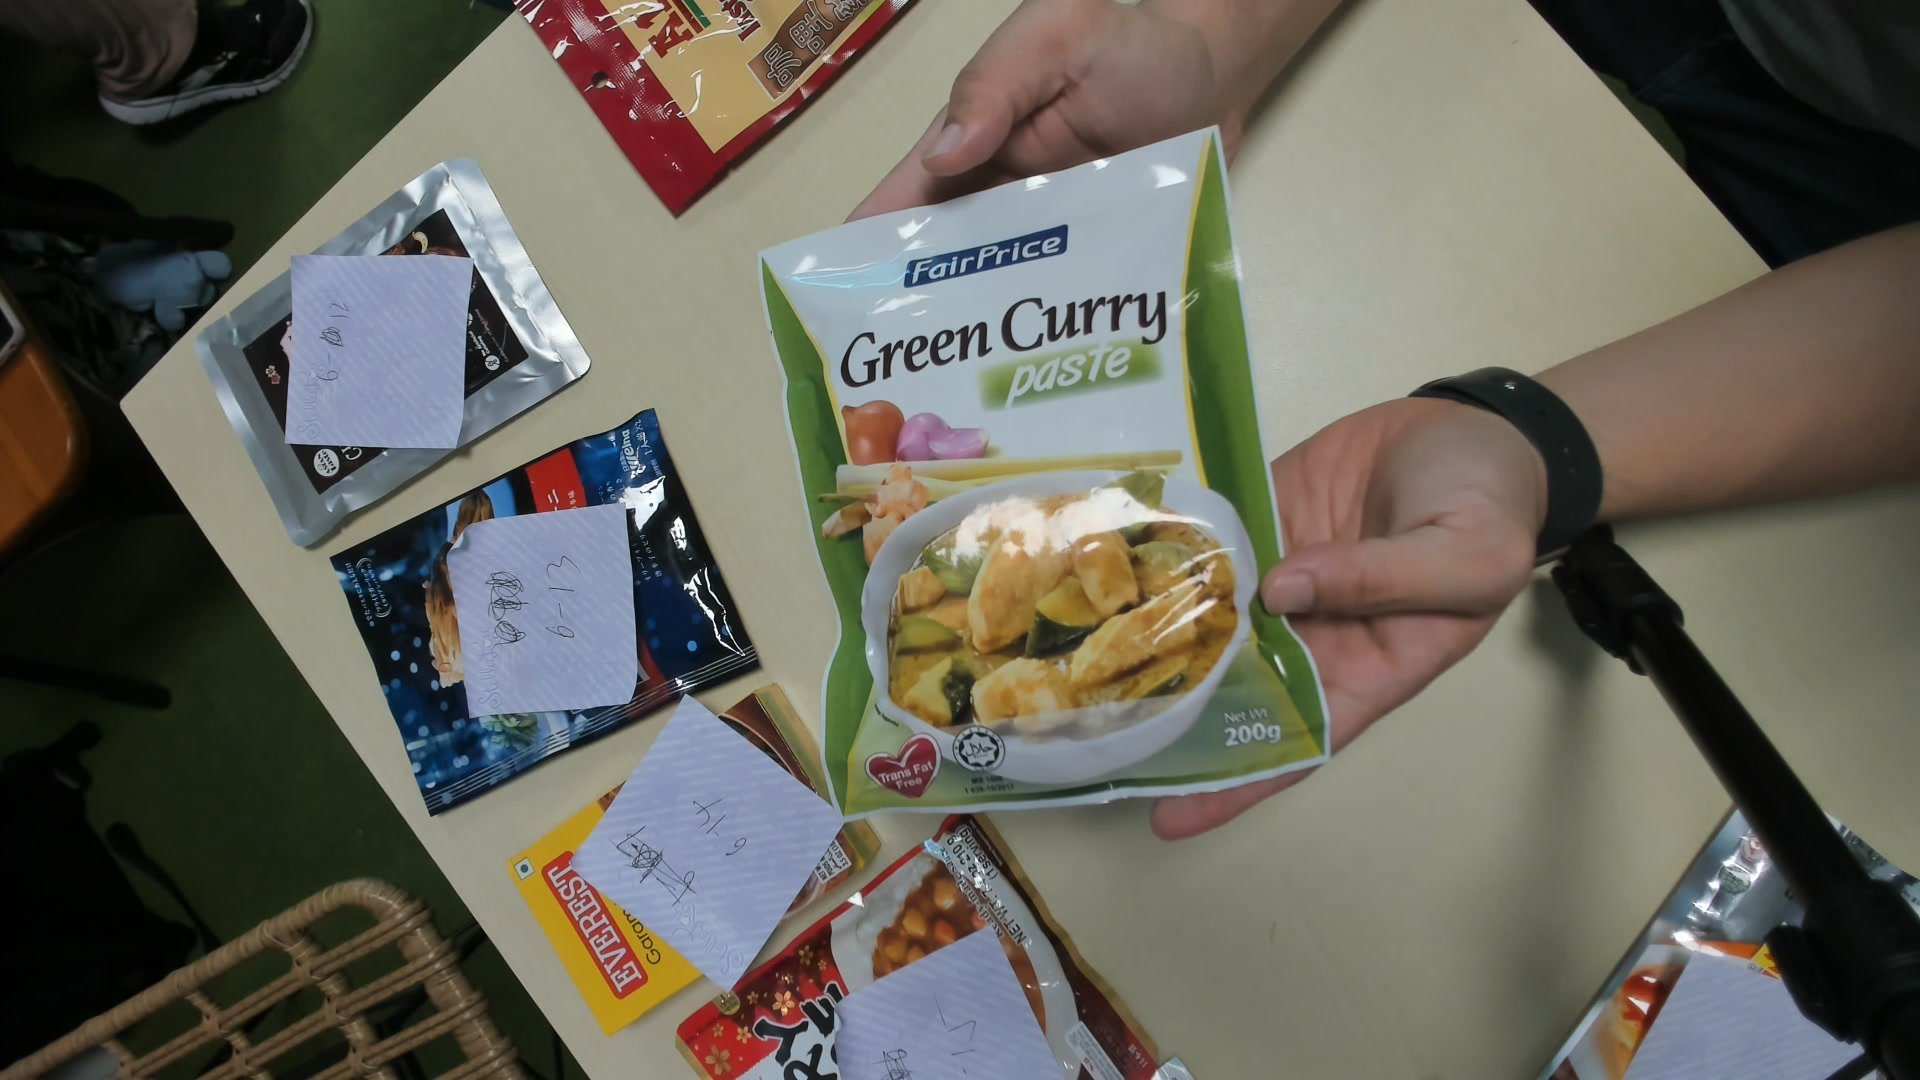CurryPastePowderSauce_200-299g_Halal_NonHealthy: (766, 131, 1331, 827)
